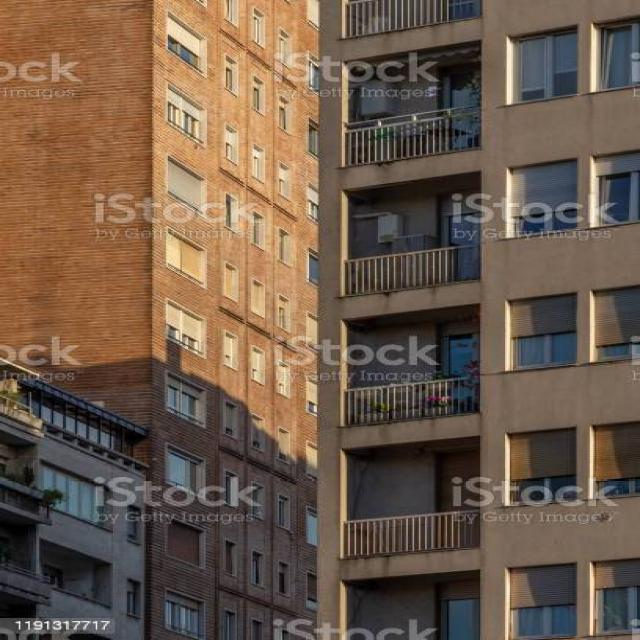Window: (494, 559, 581, 640), (502, 156, 582, 241), (501, 426, 582, 506), (505, 23, 582, 106), (504, 290, 580, 373), (590, 148, 640, 232), (588, 14, 640, 94), (590, 421, 640, 501), (589, 556, 640, 634), (591, 287, 640, 362), (155, 587, 213, 640), (165, 151, 208, 219), (166, 10, 208, 78), (166, 226, 208, 290), (166, 81, 208, 145), (164, 298, 208, 359), (162, 370, 206, 430), (162, 443, 209, 499), (163, 512, 208, 570), (300, 568, 322, 611), (221, 397, 242, 442), (124, 576, 144, 620), (248, 411, 268, 455), (124, 503, 144, 546), (220, 122, 240, 164), (274, 491, 293, 535), (276, 158, 294, 204), (221, 538, 241, 578), (248, 481, 268, 521), (304, 370, 320, 420), (306, 182, 324, 226), (220, 329, 238, 372), (250, 210, 268, 253), (222, 468, 240, 510), (223, 260, 240, 303), (278, 225, 295, 268), (249, 344, 266, 386), (250, 73, 266, 117), (276, 92, 292, 136), (304, 504, 320, 547), (224, 52, 239, 97), (276, 424, 292, 466), (276, 292, 292, 334), (304, 246, 320, 288), (306, 50, 320, 97), (276, 560, 293, 598), (250, 140, 265, 183), (250, 278, 265, 319), (249, 550, 266, 586), (252, 5, 266, 48), (223, 607, 241, 640), (276, 361, 292, 398), (304, 440, 318, 482), (305, 311, 319, 353), (278, 24, 292, 66), (224, 192, 238, 233), (307, 116, 320, 160), (224, 0, 238, 28), (251, 619, 266, 640)
